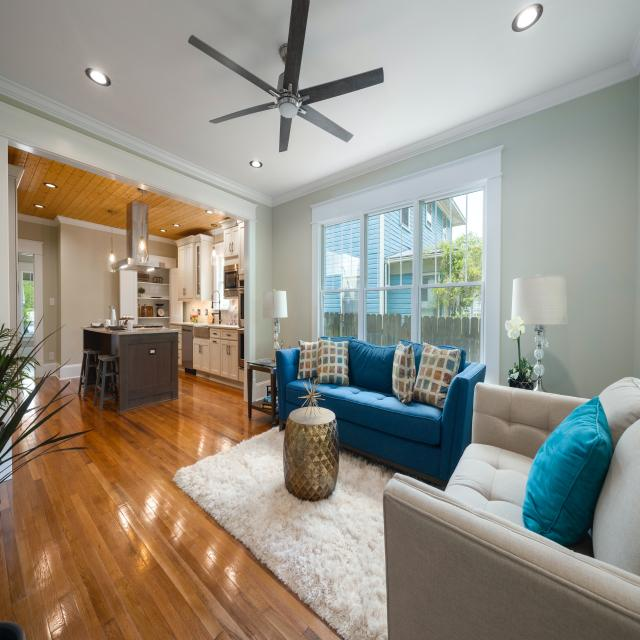floor: (0, 369, 344, 640)
wall: (272, 76, 639, 399), (0, 93, 272, 361), (60, 223, 120, 380), (18, 220, 57, 339), (8, 164, 25, 330), (18, 238, 44, 333), (36, 331, 57, 378), (148, 240, 178, 268), (56, 223, 61, 370), (191, 301, 219, 323), (112, 233, 126, 263), (233, 299, 238, 325), (221, 310, 229, 324), (214, 233, 224, 244), (213, 314, 219, 324), (230, 314, 232, 319), (230, 320, 233, 323)
